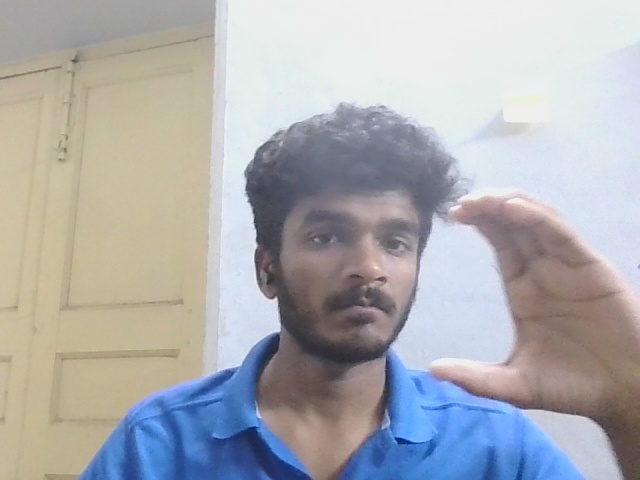No: (374, 196, 637, 458)
